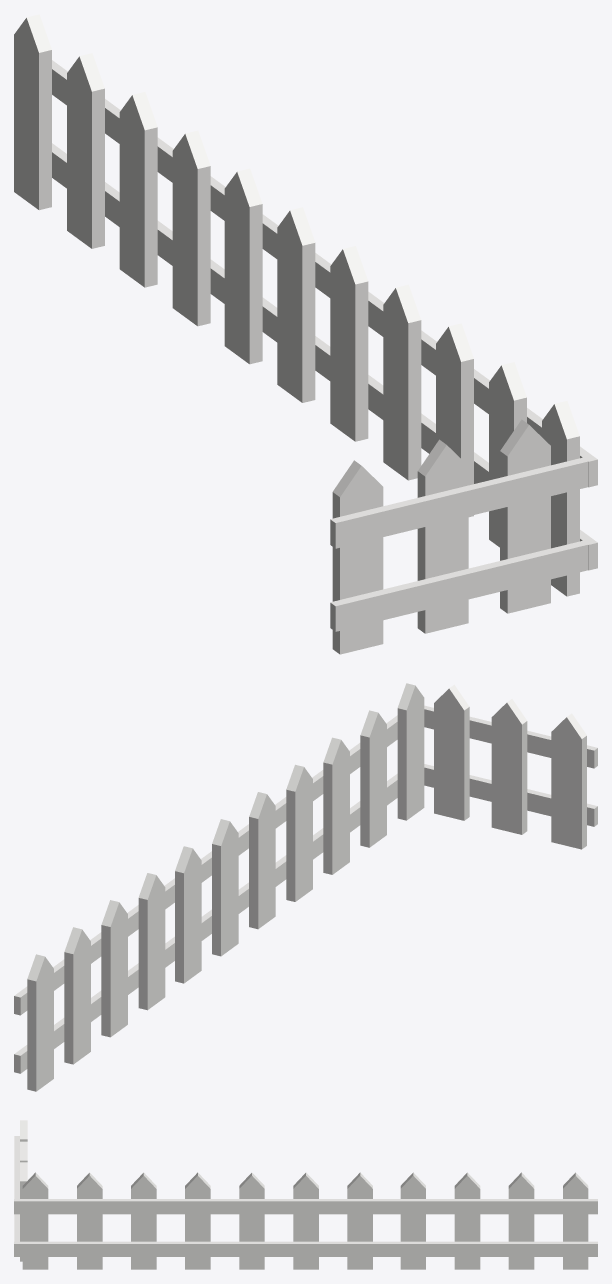
File: Fence_2.fbx
3 views of the same model, one above another, from view 1: azimuth 30°, elevation 25°; view 2: azimuth 150°, elevation 25°; view 3: azimuth 270°, elevation 25° (orthographic). The views are drawn at different scales.
Parts seen in each view (by area): view 1: Fence_2; view 2: Fence_2; view 3: Fence_2.
Part boxes in pixels (x1,y1,x2,y2): Fence_2: [14, 14, 597, 654]; Fence_2: [14, 683, 597, 1091]; Fence_2: [14, 1120, 597, 1269].
Size of the model in its own units: 122 by 462 by 82.03.
